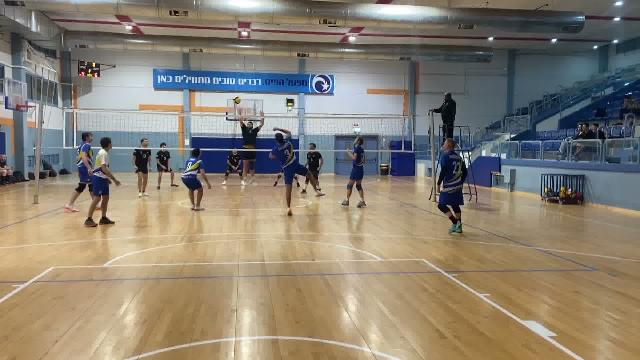ball: (229, 93, 247, 109)
